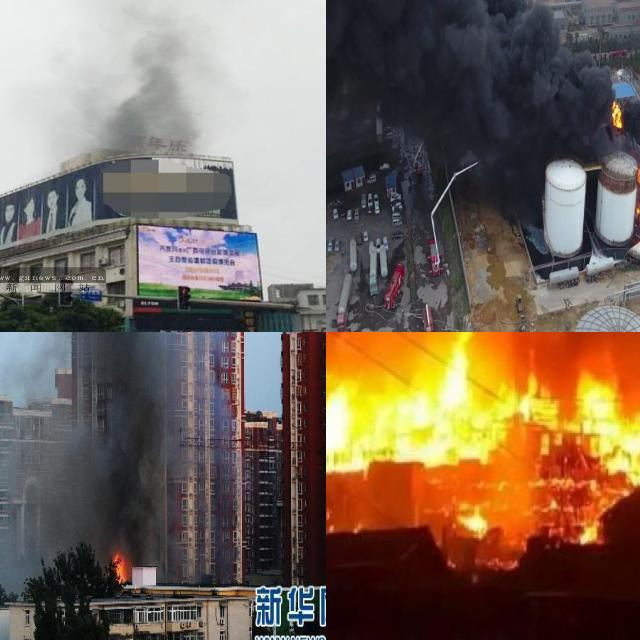fire: (326, 332, 640, 526), (109, 548, 131, 584), (611, 99, 622, 130), (635, 165, 640, 217)
smoke: (326, 0, 640, 214), (0, 332, 245, 575), (15, 0, 247, 161)
